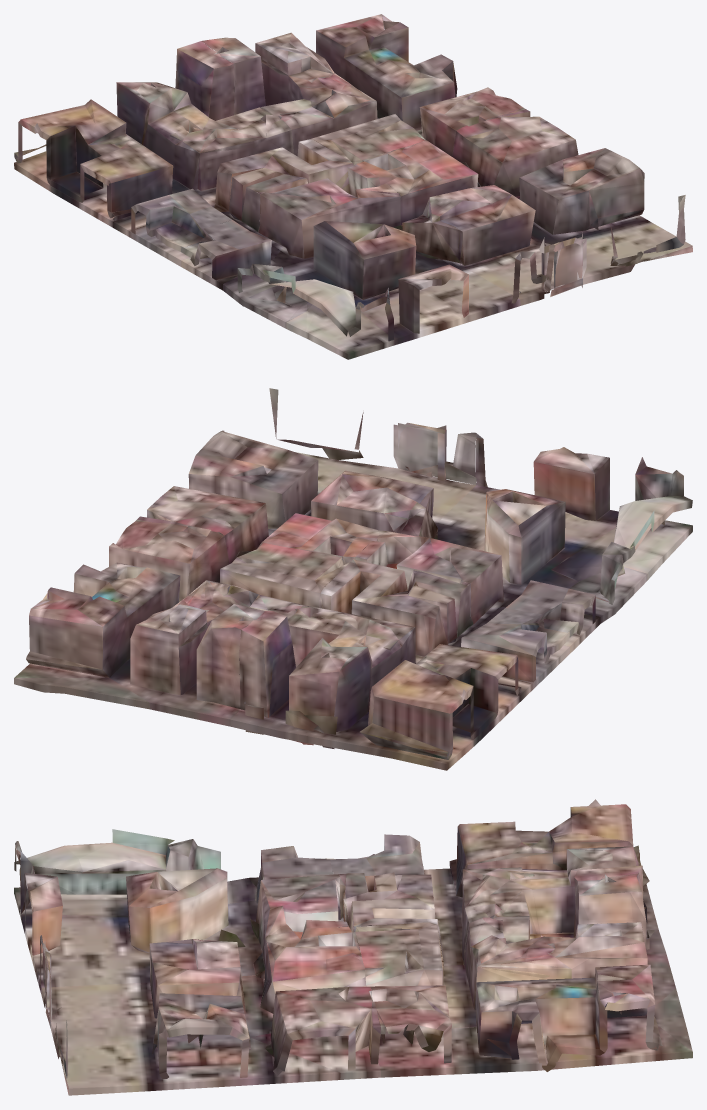
3 views of the same model, one above another, from view 1: azimuth 30°, elevation 25°; view 2: azimuth 150°, elevation 25°; view 3: azimuth 270°, elevation 25° (orthographic). The views are drawn at different scales.
Visible parts, largest first — view 1: Mesh_0; view 2: Mesh_0; view 3: Mesh_0.
Boxes of the visible parts, box(x1,y1,x2,y2) form: Mesh_0: box(14, 14, 692, 359); Mesh_0: box(14, 388, 692, 770); Mesh_0: box(14, 799, 692, 1095).
Size of the model in its own units: 266 by 53.59 by 330.
1 material, 1 textured.
